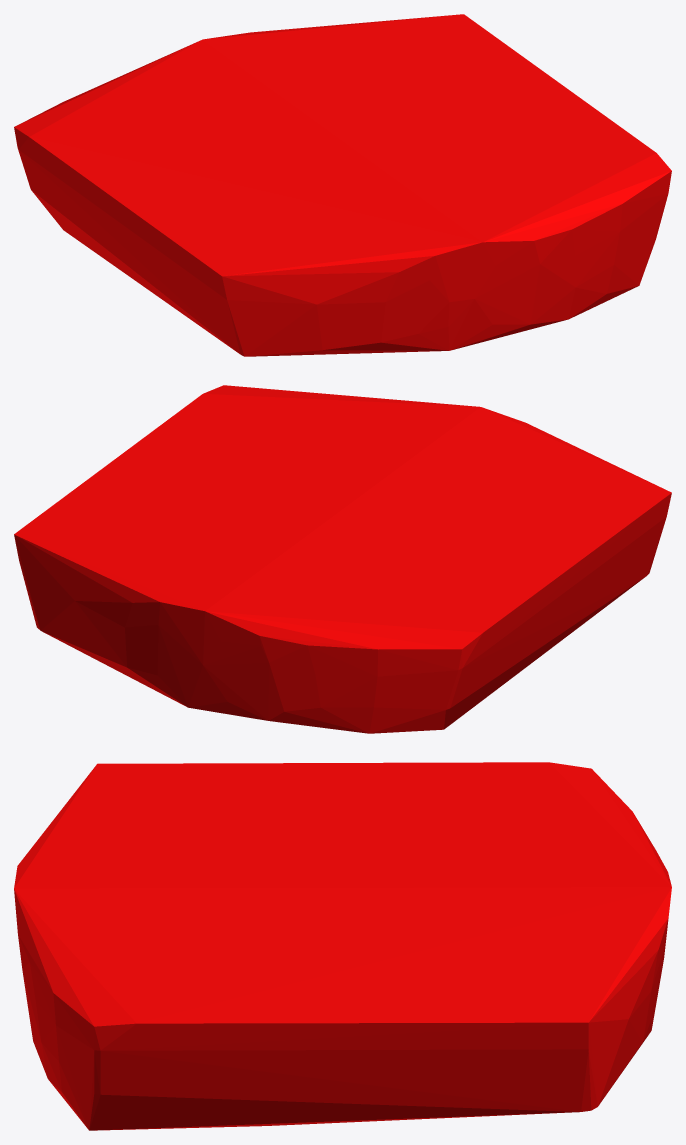
File: wrist_pitch_0091_convex_hull_03.obj
3 renders of one model, top to bottom at view 1: azimuth 30°, elevation 25°; view 2: azimuth 150°, elevation 25°; view 3: azimuth 270°, elevation 25°, orthographic. The views are drawn at different scales.
Visible parts, largest first — view 1: wrist_pitch_0091_convex_hull_03; view 2: wrist_pitch_0091_convex_hull_03; view 3: wrist_pitch_0091_convex_hull_03.
Boxes of the visible parts, bbox=[...] form: wrist_pitch_0091_convex_hull_03: bbox=[14, 14, 671, 356]; wrist_pitch_0091_convex_hull_03: bbox=[14, 385, 671, 733]; wrist_pitch_0091_convex_hull_03: bbox=[14, 762, 671, 1130].
Size of the model in its own units: 0.059 by 0.014 by 0.0626.
